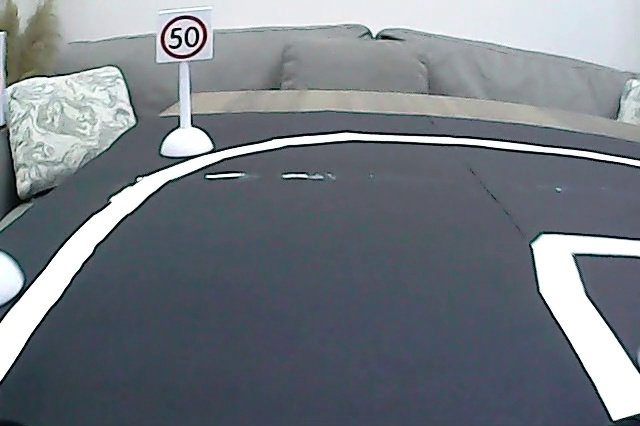speed limit 50: (158, 12, 210, 62)
